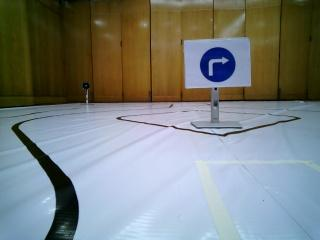right: (188, 43, 246, 86)
